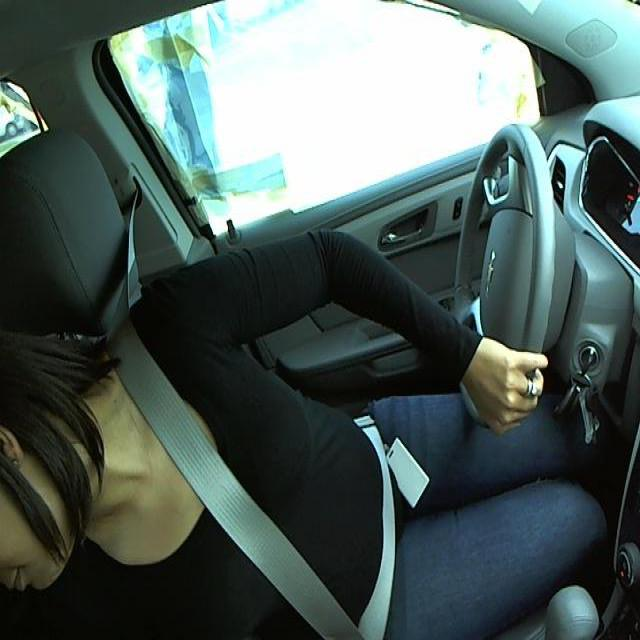seatbelt: (108, 356, 399, 628)
